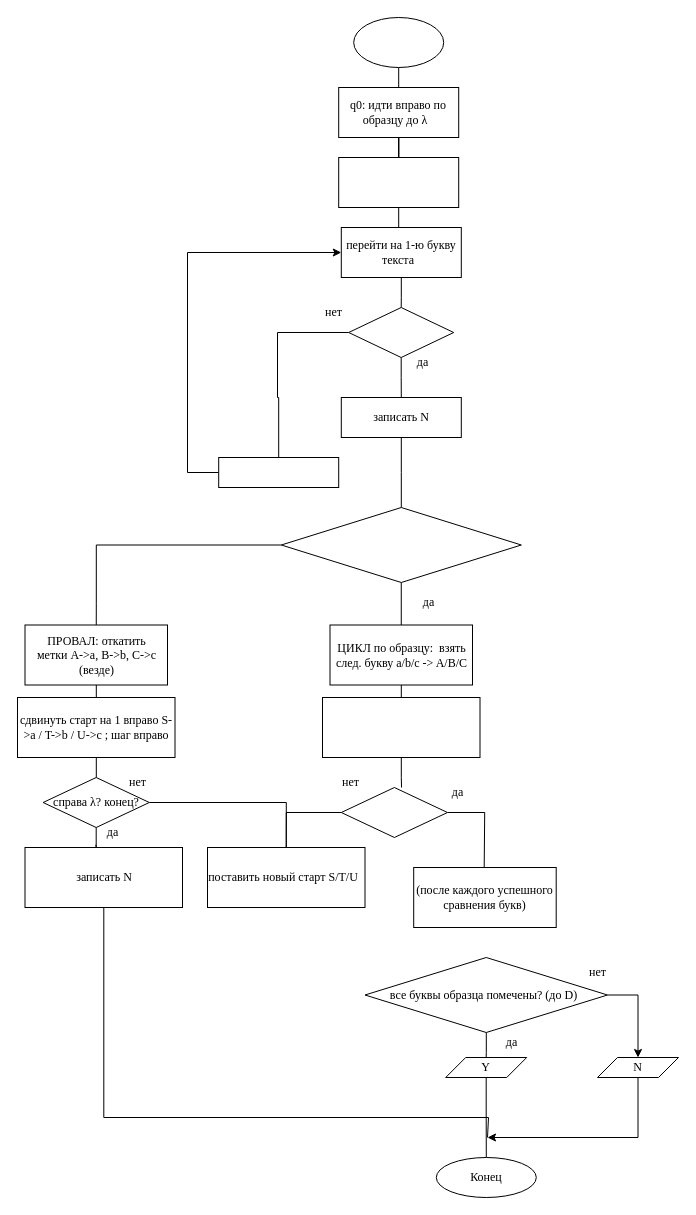
The diagram is 696 pixels wide and 1215 high, and some of its shapes have lost their labels. Each missing label, with the centre of its shape:
"в тексте от старта найти следующую НЕпомеченную (пропуская A/B/C)" goes at point 401,727.
"заменить λ между строками на D" goes at point 398,182.
"Начало" goes at point 398,42.
"поставить старт: a->S,b->T,c->U" goes at point 278,472.
"совпала 1-я буква образца со S/T/U ?" goes at point 400,544.
"совпало?" goes at point 394,812.
"текст пуст? λ" goes at point 401,332.
